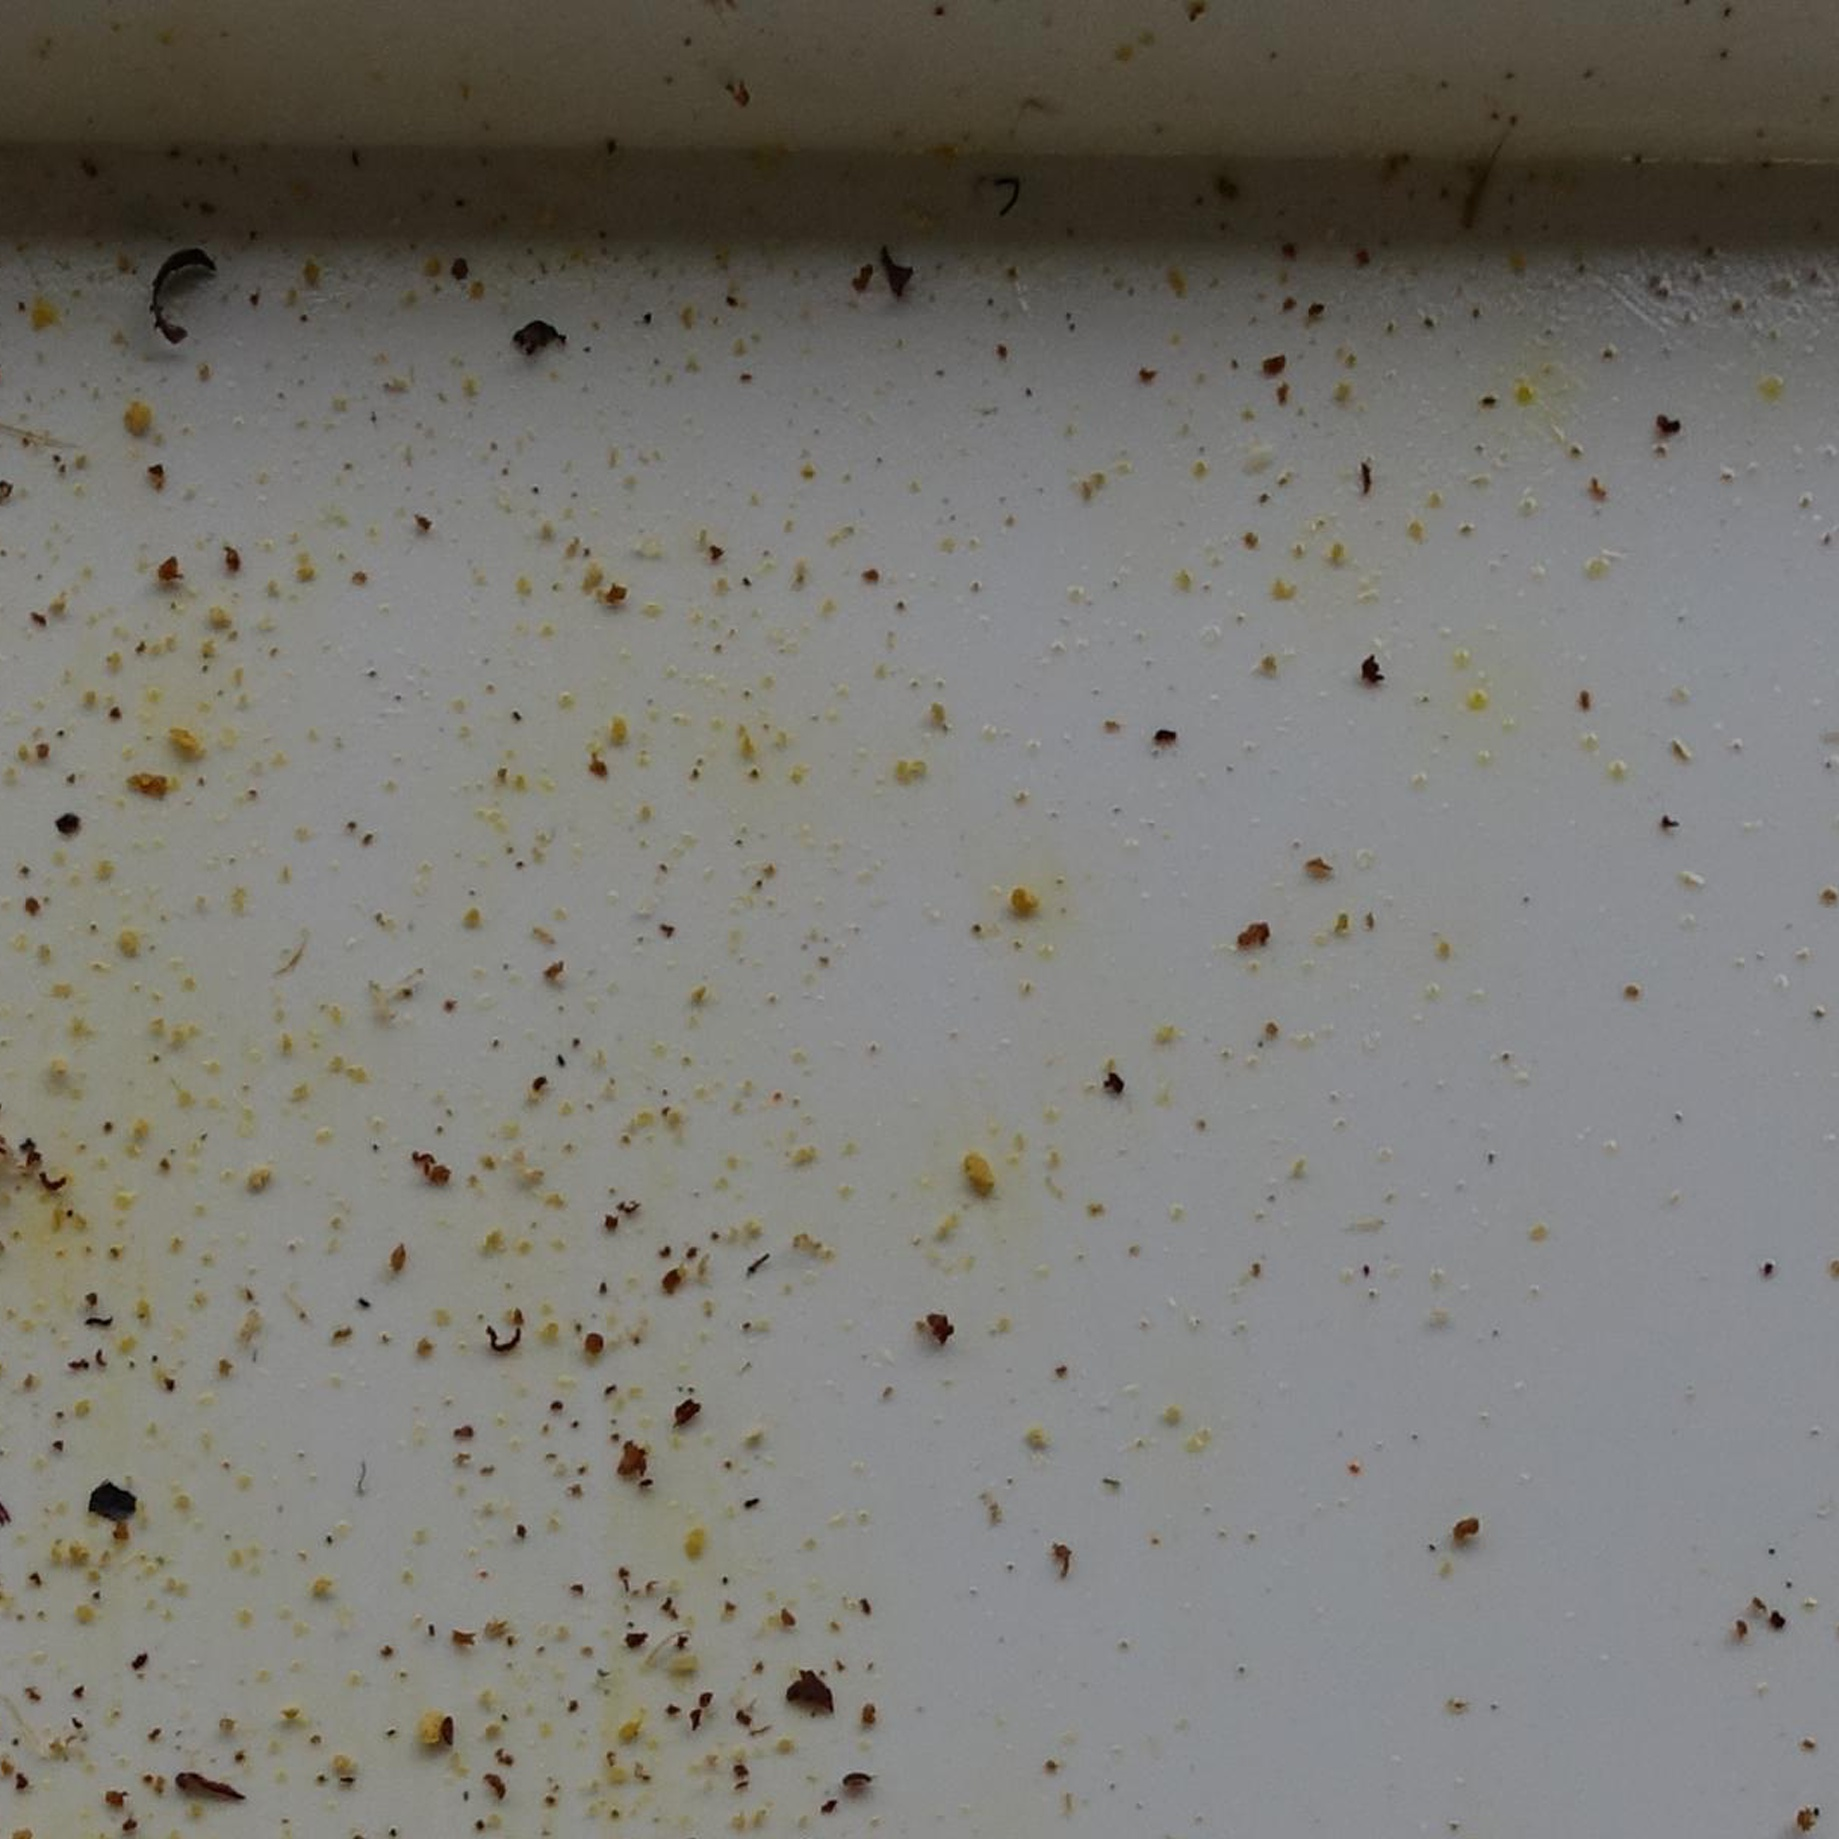Varroa: (840, 1772, 867, 1797)
